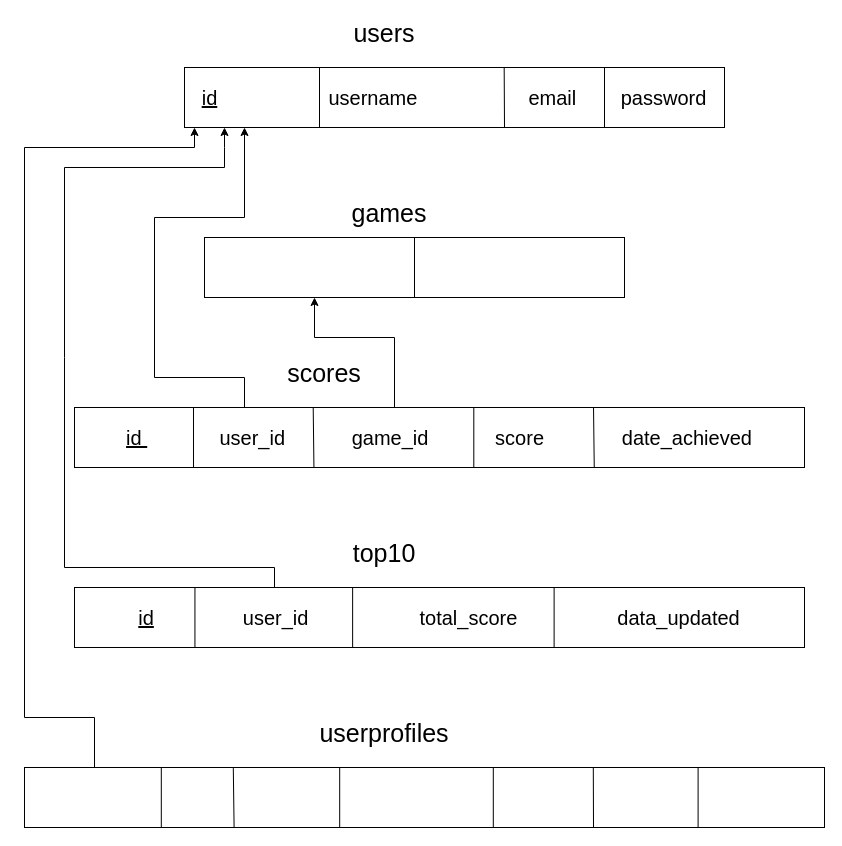
Image size: 842x846. Some labels were removed from this diagram. The centre of each missing label's shape, as x and y in pixels:
id name: the point at 414,267
user_id bio location date_of_birth website steamID EpicID: the point at 424,797
